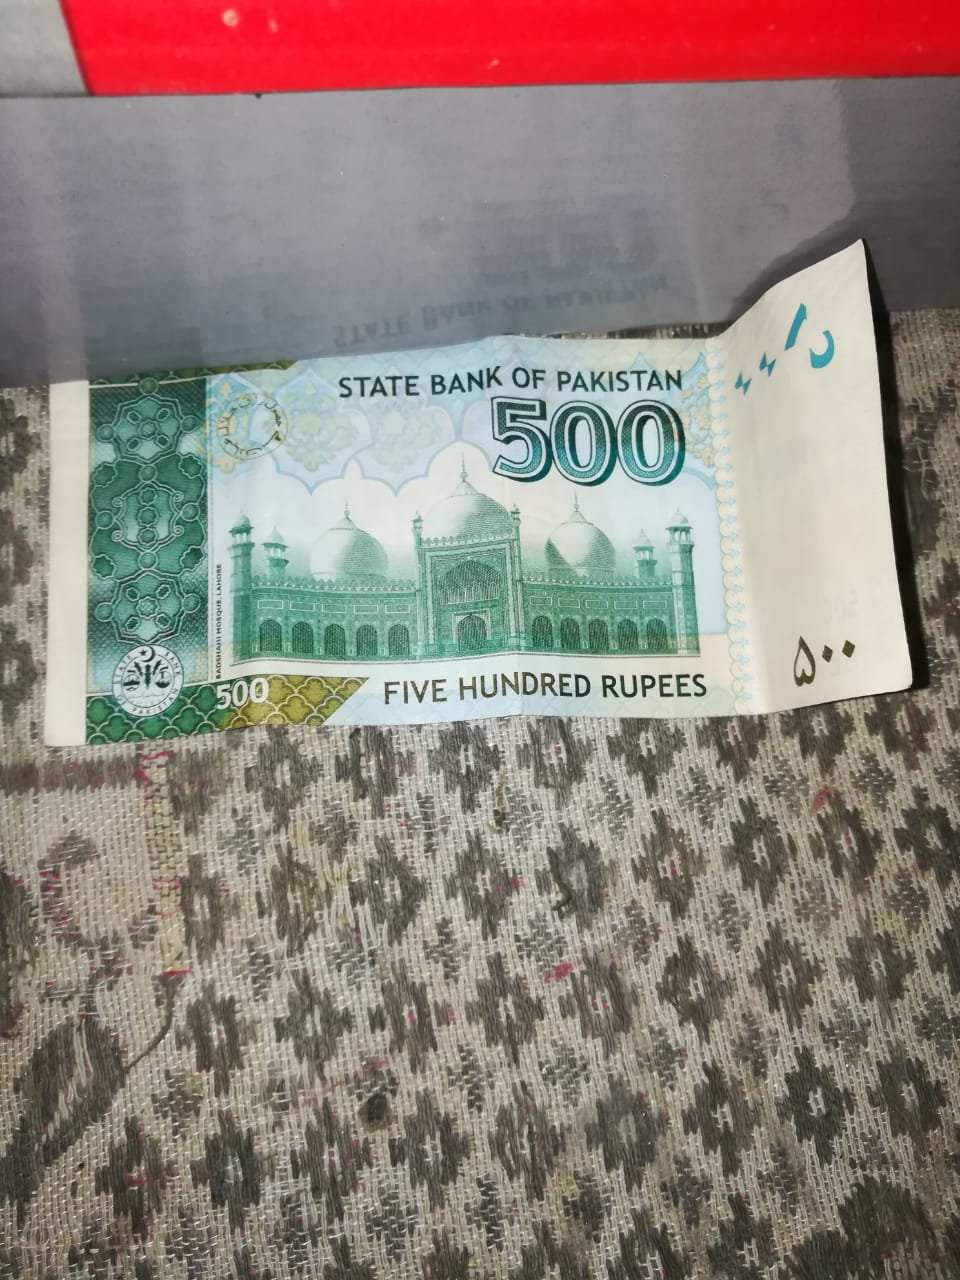500 rupee: (33, 253, 905, 733)
